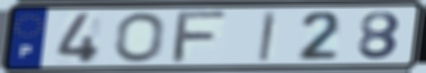2: (295, 10, 343, 61)
4: (54, 11, 103, 66)
8: (357, 10, 403, 61)
F: (168, 9, 233, 65)
I: (256, 10, 280, 63)
O: (114, 11, 166, 64)
